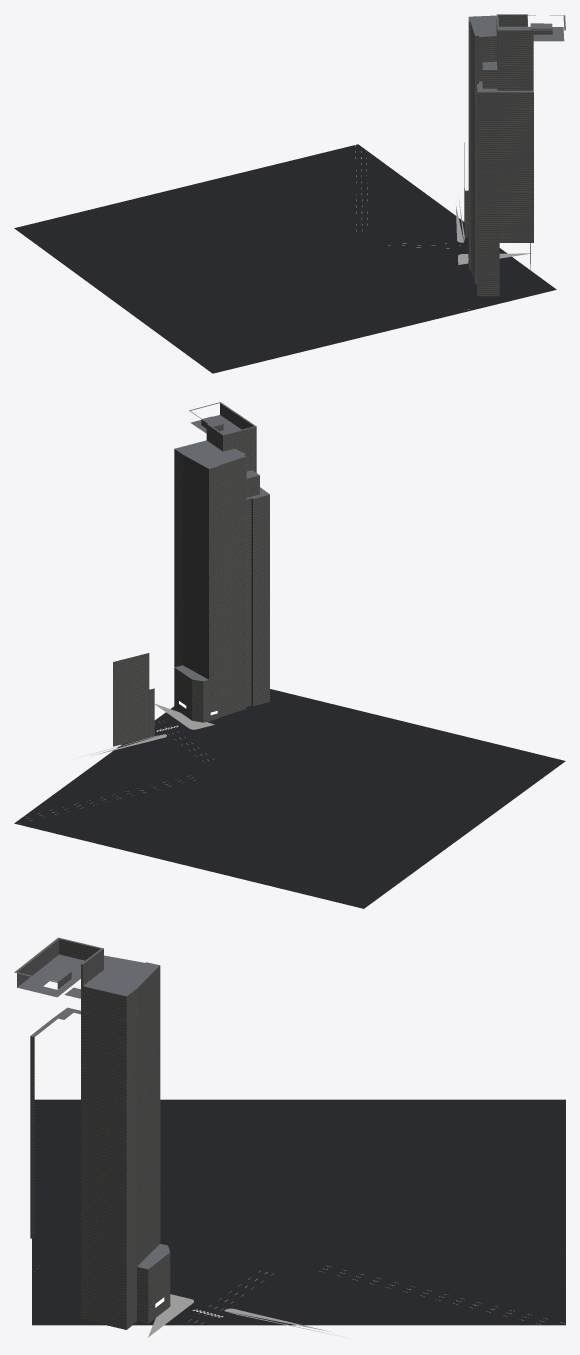
The picture shows the model from 3 angles, top to bottom: view 1: azimuth 30°, elevation 25°; view 2: azimuth 150°, elevation 25°; view 3: azimuth 270°, elevation 25°; orthographic projection. The views are drawn at different scales.
Visible parts, largest first — view 1: t1_5, detail; view 2: t1_5, detail; view 3: t1_5, detail.
Part boxes in pixels (x1,y1,x2,y2): t1_5: (14, 14, 565, 373); detail: (355, 145, 532, 309); t1_5: (14, 402, 565, 908); detail: (27, 704, 214, 820); t1_5: (14, 937, 565, 1329); detail: (37, 1265, 564, 1337).
Bounding box in the file's own units: 267 × 184 × 258.
Materials: 5 (2 with a texture image).
